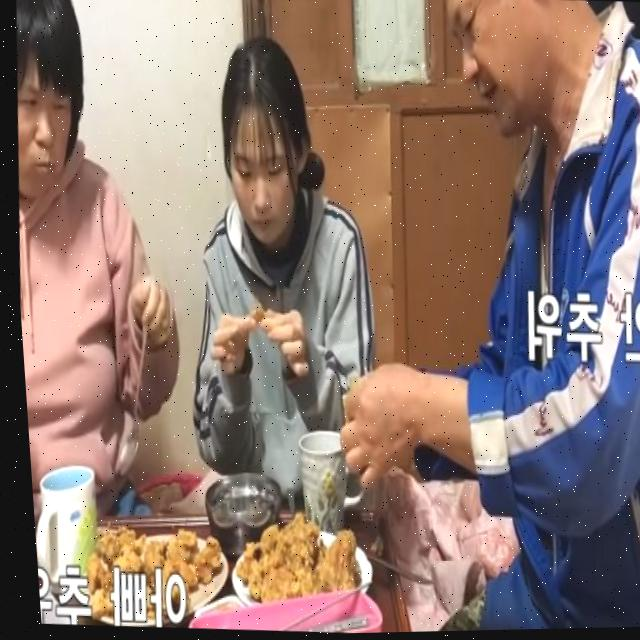eating-person: (141, 5, 405, 545), (0, 0, 196, 551)
